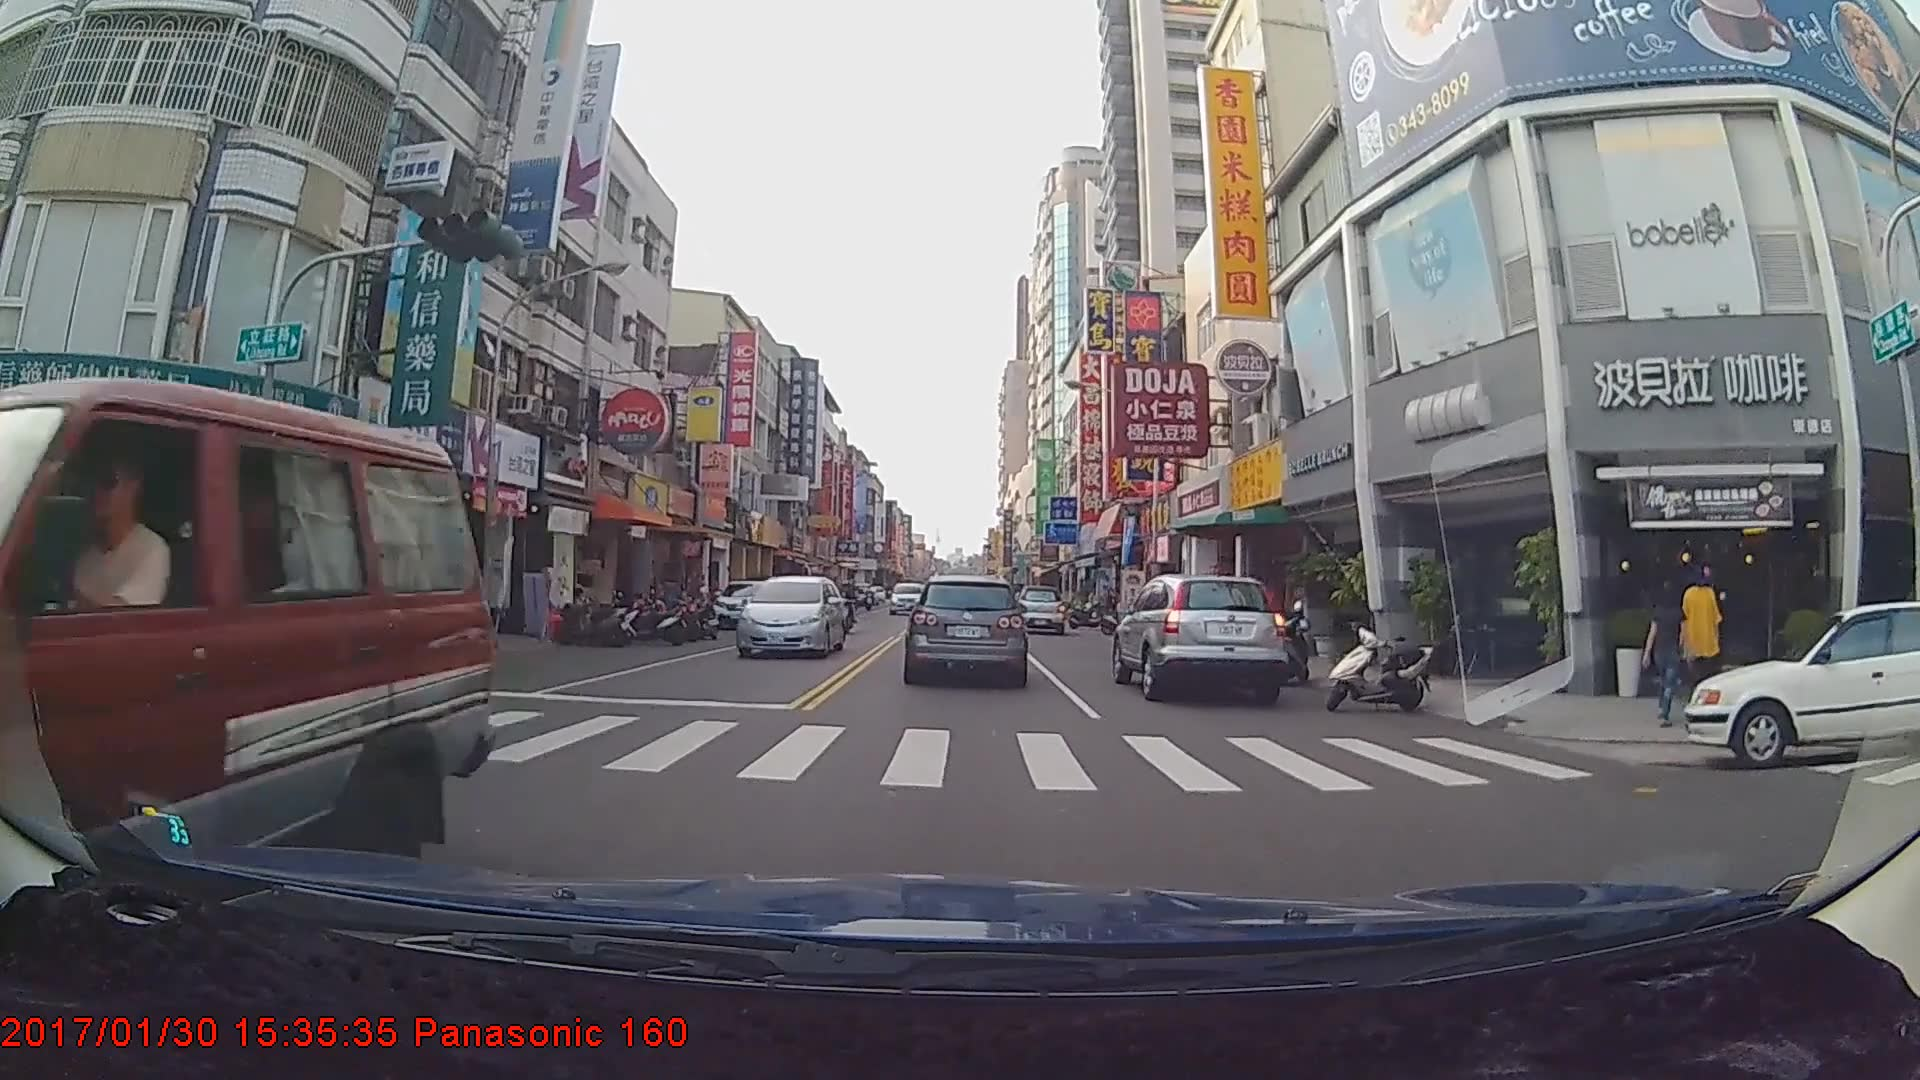pedestrian: (1642, 580, 1695, 729), (1678, 568, 1726, 700)
vehicle: (0, 377, 494, 1008), (1684, 596, 1920, 768), (1110, 569, 1287, 704), (907, 573, 1025, 683), (736, 573, 849, 660), (712, 579, 773, 629), (1012, 584, 1065, 634), (888, 582, 926, 616)
